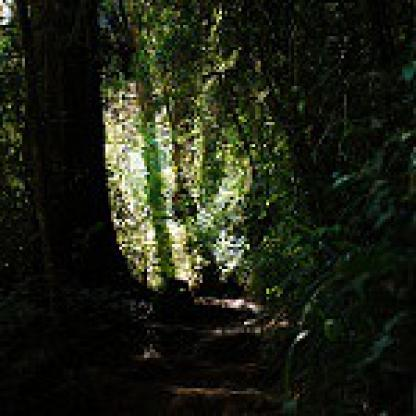trunk: (20, 3, 156, 324)
